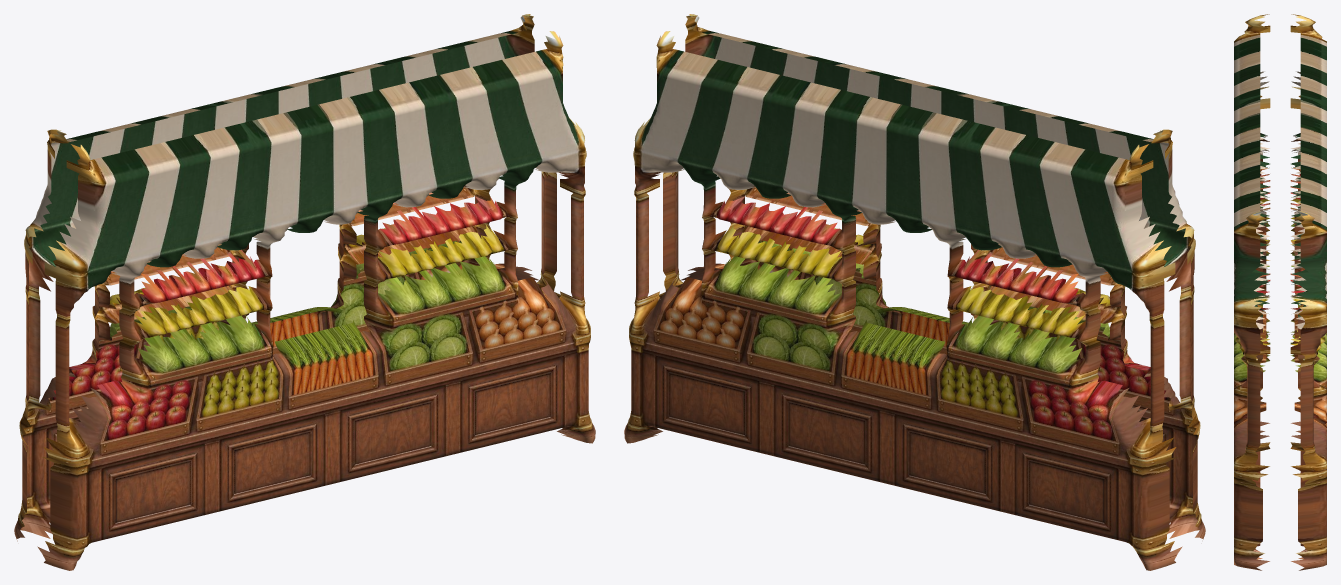
The model's file is v4-market-square-scatter-produce-stall.glb.
3 renders of one model, left to right at view 1: azimuth 30°, elevation 25°; view 2: azimuth 150°, elevation 25°; view 3: azimuth 270°, elevation 25°, orthographic. The views are drawn at different scales.
Visible parts, largest first — view 1: v4-market-square-scatter-produce-stall; view 2: v4-market-square-scatter-produce-stall; view 3: v4-market-square-scatter-produce-stall.
Part boxes in pixels (left/top/right/bottom): v4-market-square-scatter-produce-stall: left=14, top=14, right=595, bottom=570; v4-market-square-scatter-produce-stall: left=624, top=14, right=1205, bottom=570; v4-market-square-scatter-produce-stall: left=1234, top=14, right=1326, bottom=570.
Bounding box in the file's own units: 1.39 × 0.9813 × 0.24.
Materials: 1 (1 with a texture image).
